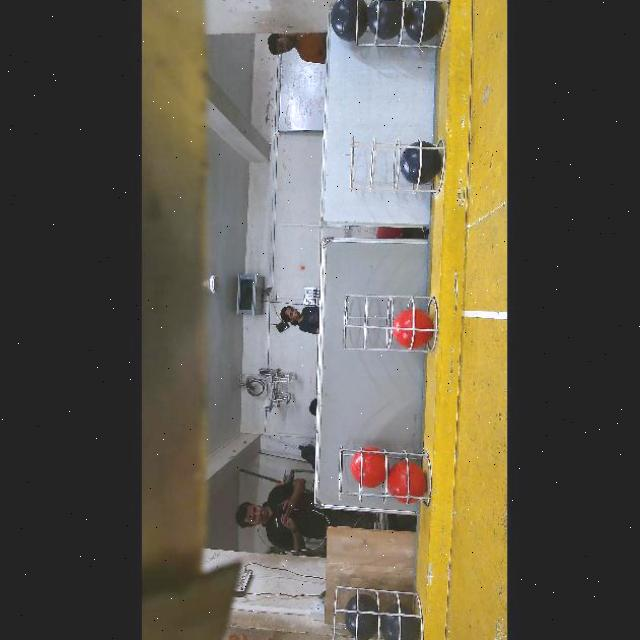P: (342, 595, 380, 640), (365, 0, 405, 41), (399, 143, 438, 183), (406, 1, 444, 39), (328, 0, 365, 39), (378, 605, 418, 640)
R: (386, 462, 425, 503), (349, 447, 388, 488), (392, 311, 430, 349)
S: (336, 440, 432, 506), (340, 294, 436, 358), (330, 582, 424, 640), (354, 136, 441, 198), (354, 0, 438, 56)
